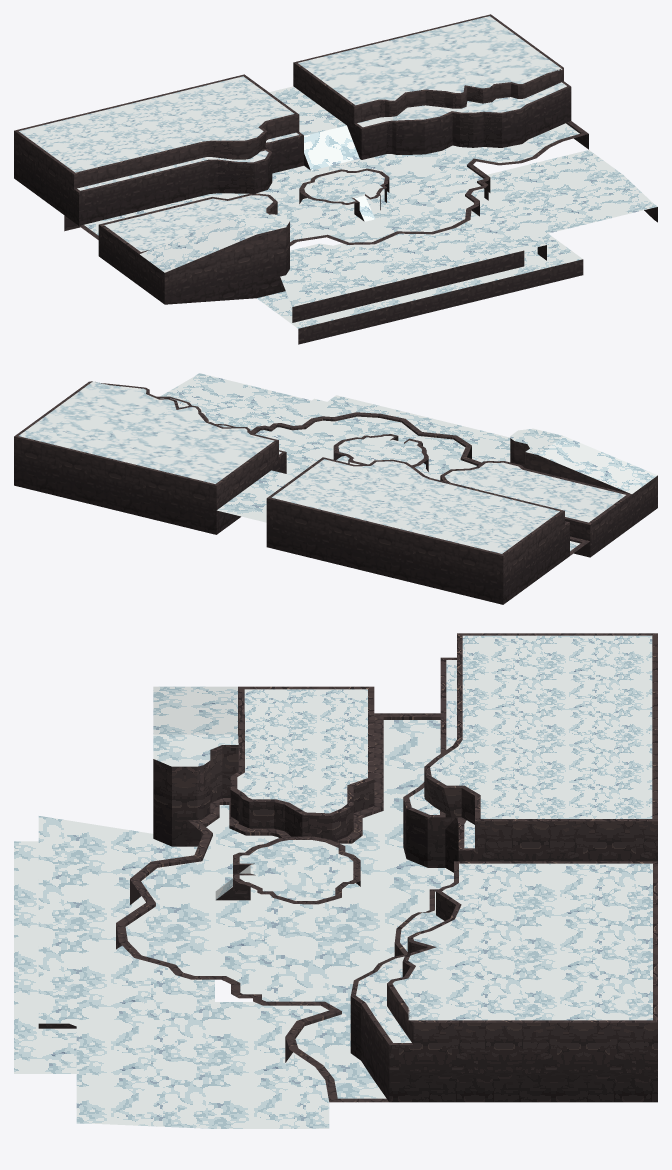
File: map_mesh_titans_respite_2.glb
The picture shows the model from 3 angles, top to bottom: view 1: azimuth 30°, elevation 25°; view 2: azimuth 150°, elevation 25°; view 3: azimuth 270°, elevation 25°; orthographic projection. The views are drawn at different scales.
Visible parts, largest first — view 1: Plane.083, Plane.084, Plane.087, Plane.085, Plane.082, Plane.088, Plane.094, Plane.086; view 2: Plane.083, Plane.084, Plane.085, Plane.087, Plane.082, Plane.086, Plane.094; view 3: Plane.084, Plane.083, Plane.087, Plane.082, Plane.085, Plane.088, Plane.086.
Boxes of the visible parts, x1,y1,x2,y2 form: Plane.083: [14, 74, 303, 225]; Plane.084: [293, 14, 571, 159]; Plane.087: [280, 150, 657, 322]; Plane.085: [98, 193, 289, 304]; Plane.082: [64, 121, 588, 246]; Plane.088: [257, 233, 583, 344]; Plane.094: [269, 86, 359, 170]; Plane.086: [299, 168, 389, 221]; Plane.083: [266, 457, 569, 604]; Plane.084: [14, 381, 286, 534]; Plane.085: [440, 428, 657, 557]; Plane.087: [160, 373, 510, 462]; Plane.082: [210, 412, 590, 556]; Plane.086: [333, 434, 428, 471]; Plane.094: [217, 470, 295, 522]; Plane.084: [350, 861, 657, 1102]; Plane.083: [403, 633, 657, 872]; Plane.087: [38, 816, 329, 1128]; Plane.082: [116, 713, 453, 1102]; Plane.085: [153, 686, 374, 846]; Plane.088: [14, 841, 76, 1073]; Plane.086: [215, 836, 360, 904].
Size of the model in its own units: 62.69 by 12 by 43.84.
Materials: 3 (3 with a texture image).
